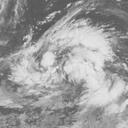cyclone: (10, 6, 123, 102)
